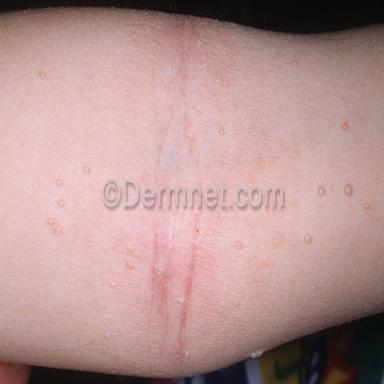Molluscum-Contagiosum: (304, 234, 313, 245), (38, 69, 47, 79), (345, 184, 353, 195), (235, 240, 243, 251), (53, 225, 62, 234), (318, 185, 325, 196), (57, 199, 65, 208), (342, 122, 349, 130), (83, 165, 90, 173), (55, 178, 62, 186), (365, 202, 371, 210), (292, 59, 299, 65), (219, 128, 225, 134), (48, 217, 53, 224)
